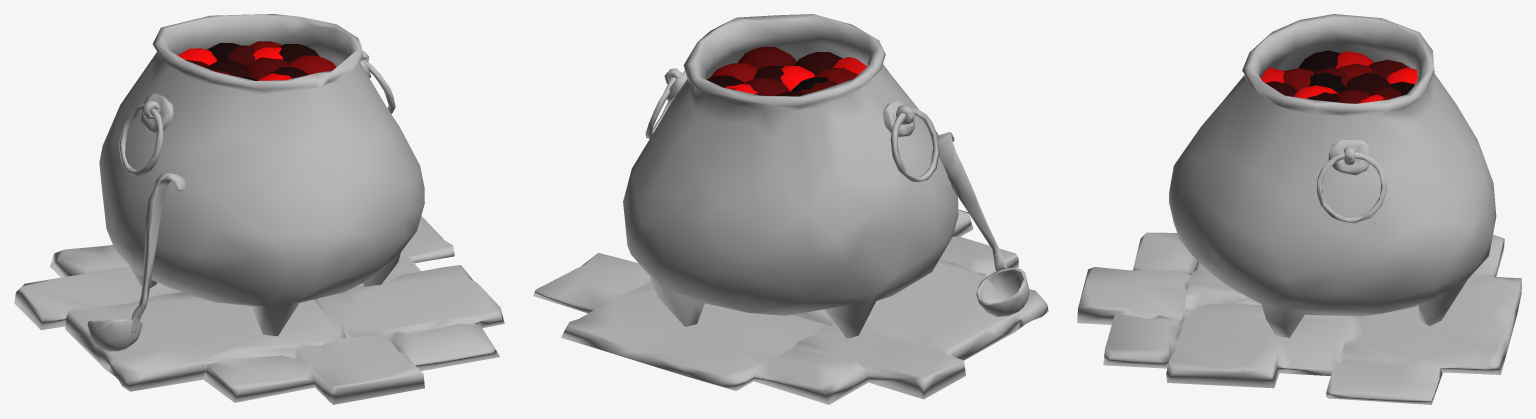
File: Cauldron.fbx
3 renders of one model, left to right at view 1: azimuth 30°, elevation 25°; view 2: azimuth 150°, elevation 25°; view 3: azimuth 270°, elevation 25°, orthographic. The views are drawn at different scales.
Parts seen in each view (by area): view 1: Cauldron, Ground, Bubbles, Ladle, LeftHandle; view 2: Cauldron, Ground, Bubbles, Ladle, LeftHandle, RightHandle; view 3: Cauldron, Ground, Bubbles, RightHandle.
Boxes of the visible parts, box(x1,y1,x2,y2) form: Cauldron: box(99, 14, 424, 336); Ground: box(14, 216, 504, 404); Bubbles: box(178, 41, 336, 80); Ladle: box(87, 173, 185, 351); LeftHandle: box(118, 104, 163, 176); Cauldron: box(623, 14, 958, 338); Ground: box(533, 209, 1048, 404); Bubbles: box(707, 47, 866, 96); Ladle: box(937, 132, 1029, 316); LeftHandle: box(890, 109, 939, 182); RightHandle: box(645, 72, 681, 138); Cauldron: box(1169, 14, 1496, 337); Ground: box(1077, 232, 1521, 404); Bubbles: box(1261, 50, 1417, 103); RightHandle: box(1316, 152, 1387, 223).
Bounding box in the file's own units: 1.3 × 0.7967 × 1.27.
